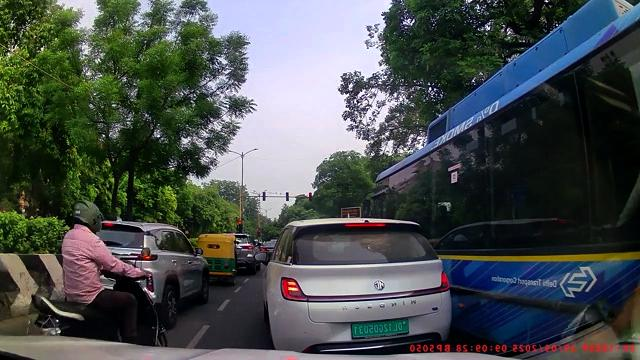motorcycle_with_helmet: (29, 199, 170, 343)
